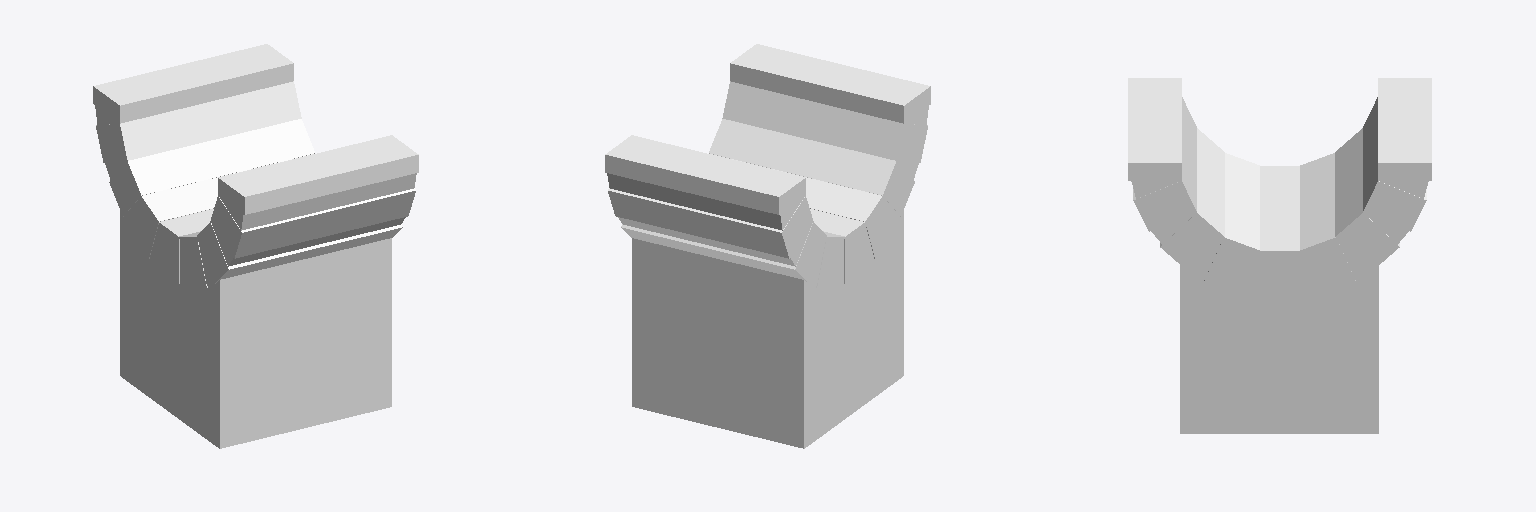
The model's file is mt_arch_single_bottom.obj.
The picture shows the model from 3 angles: view 1: azimuth 30°, elevation 25°; view 2: azimuth 150°, elevation 25°; view 3: azimuth 270°, elevation 25°; orthographic projection.
Parts seen in each view (by area): view 1: cube, cube.009, cube.004, cube.008, cube.007, cube.017, cube.006, cube.016, cube.014, cube.013, cube.015, cube.005 (+1 smaller); view 2: cube, cube.004, cube.009, cube.017, cube.016, cube.008, cube.015, cube.007, cube.003, cube.002, cube.010, cube.006 (+1 smaller); view 3: cube, cube.004, cube.009, cube.006, cube.015, cube.007, cube.016, cube.017, cube.008, cube.005, cube.010.
Part boxes in pixels (x1,y1,x2,y2): cube: (120, 211, 391, 448); cube.009: (218, 135, 418, 214); cube.004: (93, 44, 293, 123); cube.008: (96, 81, 301, 162); cube.007: (109, 119, 314, 216); cube.017: (210, 188, 415, 258); cube.006: (131, 154, 311, 258); cube.016: (197, 222, 402, 283); cube.014: (220, 173, 416, 230); cube.013: (212, 217, 405, 266); cube.015: (179, 231, 207, 287); cube.005: (159, 209, 213, 276); cube: (632, 211, 903, 448); cube.004: (605, 135, 805, 214); cube.009: (730, 44, 930, 123); cube.017: (722, 81, 927, 162); cube.016: (709, 119, 914, 216); cube.008: (608, 188, 813, 258); cube.015: (712, 154, 892, 258); cube.007: (621, 222, 826, 283); cube.003: (607, 173, 803, 230); cube.002: (618, 217, 811, 266); cube.010: (810, 209, 865, 276); cube.006: (816, 231, 844, 287); cube: (1180, 265, 1378, 433); cube.004: (1378, 78, 1431, 180); cube.009: (1128, 78, 1181, 180); cube.006: (1300, 153, 1355, 294); cube.015: (1204, 153, 1259, 294); cube.007: (1335, 128, 1399, 270); cube.016: (1160, 128, 1224, 270); cube.017: (1133, 97, 1196, 231); cube.008: (1363, 97, 1426, 231); cube.005: (1280, 166, 1300, 297); cube.010: (1259, 166, 1279, 297).
Bounding box in the file's own units: 1.01 × 1.5 × 1.52.